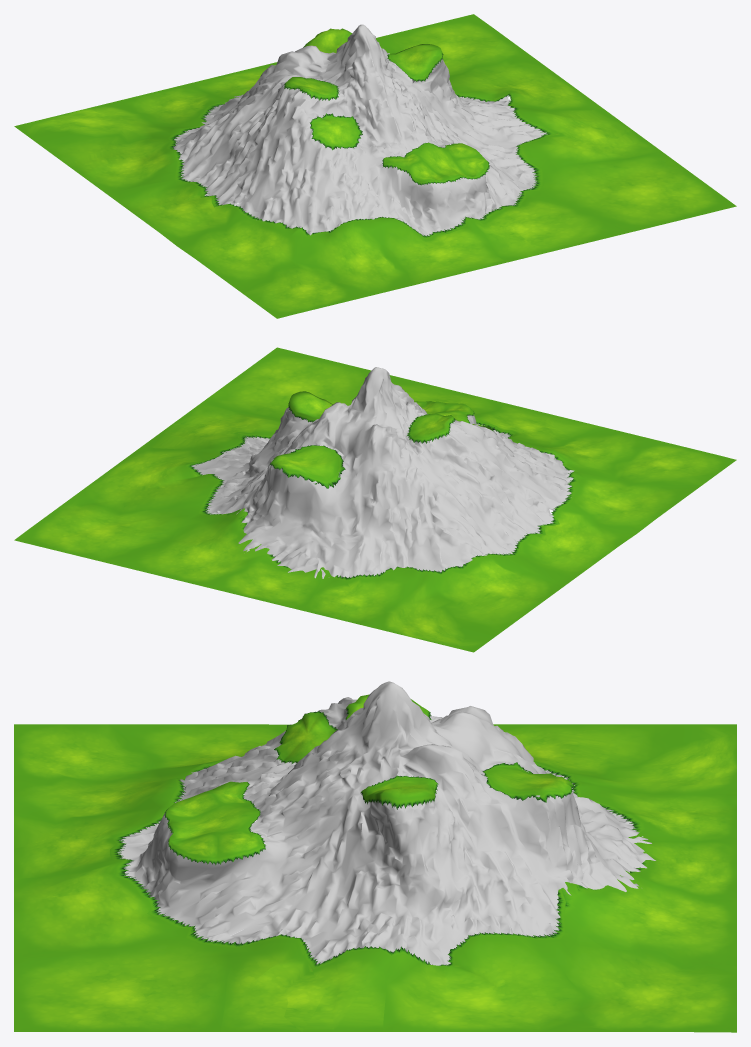
The model's file is mountain01.fbx.
3 renders of one model, top to bottom at view 1: azimuth 30°, elevation 25°; view 2: azimuth 150°, elevation 25°; view 3: azimuth 270°, elevation 25°, orthographic. The views are drawn at different scales.
Visible parts, largest first — view 1: mountain01; view 2: mountain01; view 3: mountain01.
Boxes of the visible parts, x1,y1,x2,y2 form: mountain01: (14,14,736,318); mountain01: (14,347,736,652); mountain01: (14,681,736,1032).
Size of the model in its own units: 10072 by 3017 by 9976.
